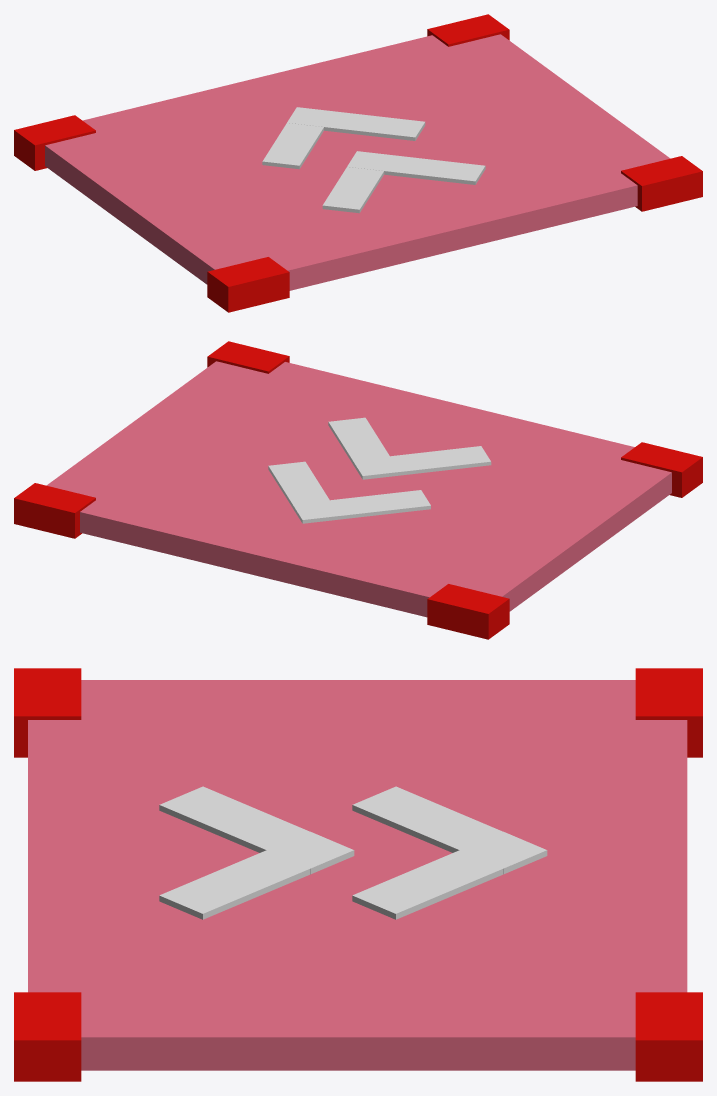
Rendered from Kapaks.fbx.
3 views of the same model, one above another, from view 1: azimuth 30°, elevation 25°; view 2: azimuth 150°, elevation 25°; view 3: azimuth 270°, elevation 25° (orthographic). The views are drawn at different scales.
Parts seen in each view (by area): view 1: Cube; view 2: Cube; view 3: Cube.
Part boxes in pixels (x1,y1,x2,y2): Cube: [14, 14, 702, 312]; Cube: [14, 341, 702, 639]; Cube: [14, 668, 702, 1081].
Size of the model in its own units: 377 by 20.45 by 295.
